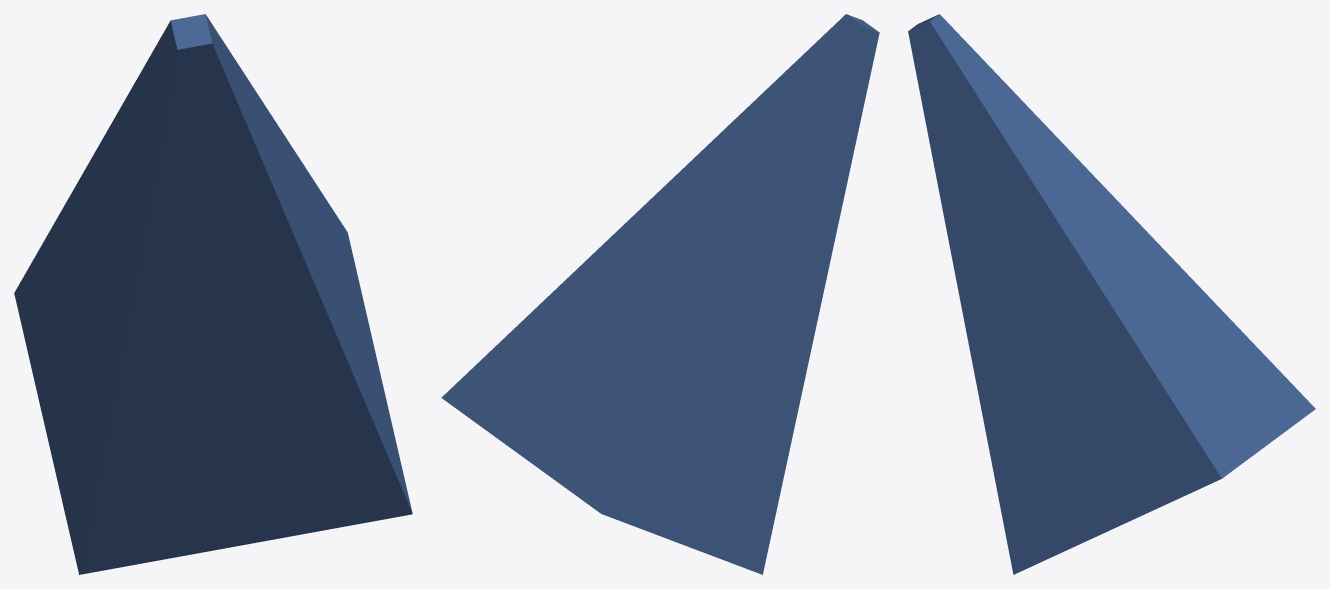
File: tree-winter-leaves-017.glb
3 renders of one model, left to right at view 1: azimuth 30°, elevation 25°; view 2: azimuth 150°, elevation 25°; view 3: azimuth 270°, elevation 25°, orthographic. The views are drawn at different scales.
Parts seen in each view (by area): view 1: Cube.055_144; view 2: Cube.055_144; view 3: Cube.055_144.
Part boxes in pixels (box(x1,y1,x2,y2)): Cube.055_144: box(14, 14, 412, 574); Cube.055_144: box(441, 14, 879, 574); Cube.055_144: box(908, 14, 1315, 574).
Bounding box in the file's own units: 0.2056 × 0.3409 × 0.2588.
